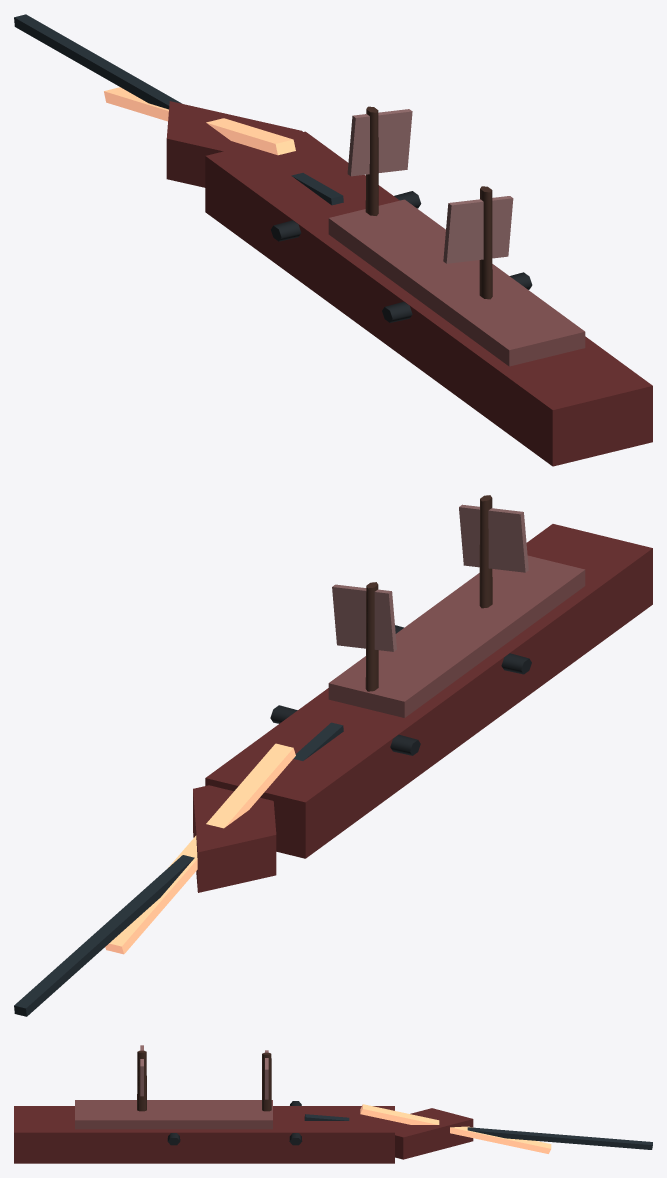
File: ship_main_51_lod1.glb
3 views of the same model, one above another, from view 1: azimuth 30°, elevation 25°; view 2: azimuth 150°, elevation 25°; view 3: azimuth 270°, elevation 25° (orthographic). The views are drawn at different scales.
Visible parts, largest first — view 1: Hull, Deck_0, Bow, LongSpearProw, Sail_1, Sail_0, ProwIdentity, Mast_1, Mast_0; view 2: Hull, Deck_0, Bow, LongSpearProw, ProwIdentity, Sail_1, Sail_0, Mast_1, Mast_0; view 3: Hull, Deck_0, Bow, LongSpearProw, ProwIdentity, Mast_1, Mast_0.
Boxes of the visible parts, x1,y1,x2,y2 form: Hull: (205, 131, 652, 466); Deck_0: (328, 199, 585, 366); Bow: (166, 101, 302, 187); LongSpearProw: (14, 14, 343, 205); Sail_1: (443, 196, 513, 263); Sail_0: (347, 109, 412, 176); ProwIdentity: (104, 87, 295, 155); Mast_1: (479, 186, 492, 299); Mast_0: (365, 106, 378, 215); Hull: (205, 524, 652, 858); Deck_0: (328, 555, 585, 717); Bow: (193, 785, 276, 892); LongSpearProw: (14, 722, 343, 1016); ProwIdentity: (105, 743, 295, 954); Sail_1: (459, 504, 528, 572); Sail_0: (332, 584, 396, 651); Mast_1: (479, 495, 492, 608); Mast_0: (365, 582, 378, 691); Hull: (14, 1106, 394, 1163); Deck_0: (75, 1100, 272, 1129); Bow: (395, 1108, 473, 1159); LongSpearProw: (304, 1114, 652, 1149); ProwIdentity: (360, 1104, 551, 1153); Mast_1: (137, 1050, 146, 1111); Mast_0: (262, 1052, 271, 1111).
Size of the model in its own units: 1.64 by 2.05 by 11.87.
